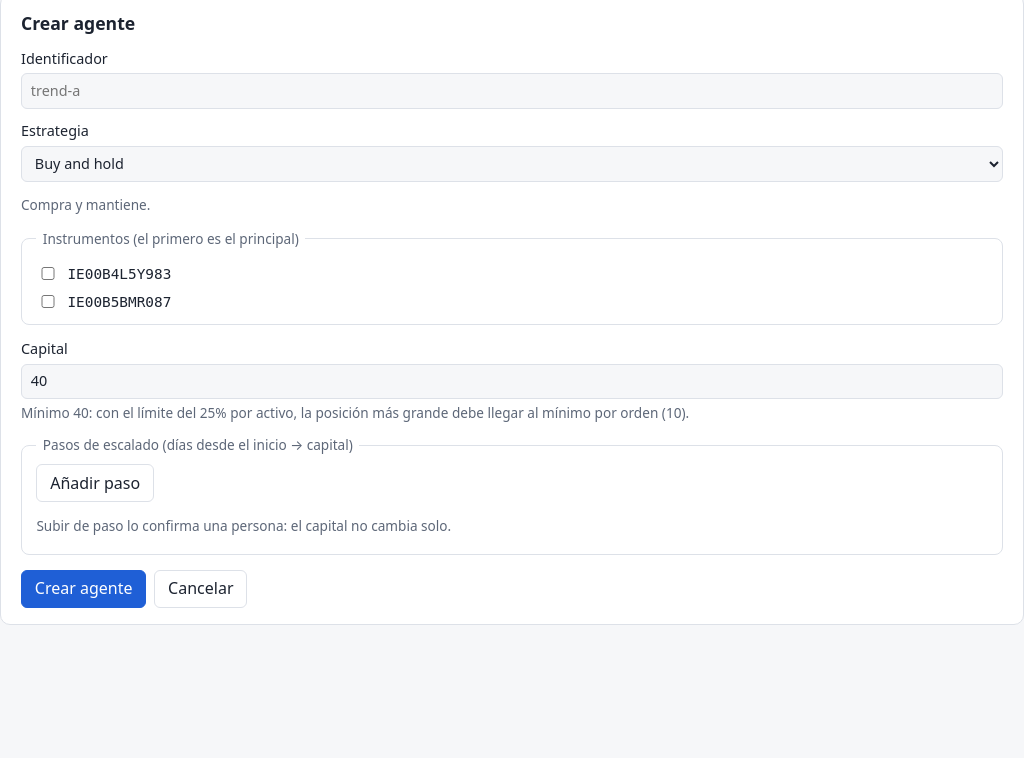
Test: AgentForm (create) › shows every problem and sends nothing when the input is invalid
In the field labelled "Identificador": (512, 91) [21,73,1003,109], type "Bad Id"
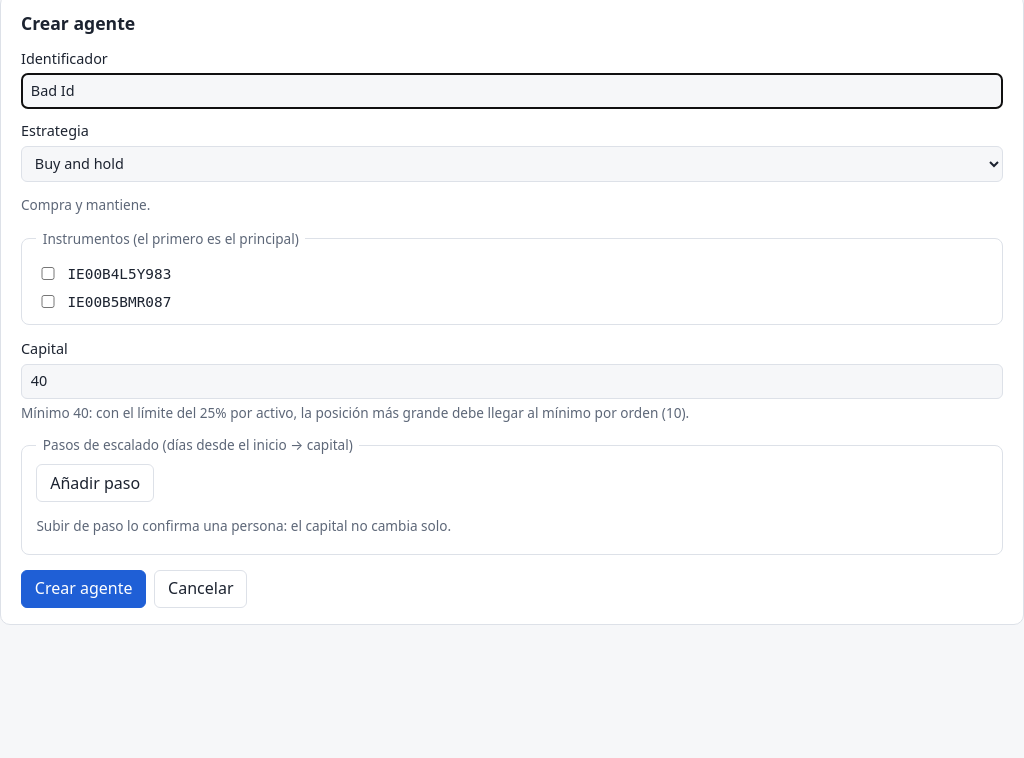
Select "Trend" in the dropdown labelled "Estrategia": (512, 164) [21,146,1003,182]
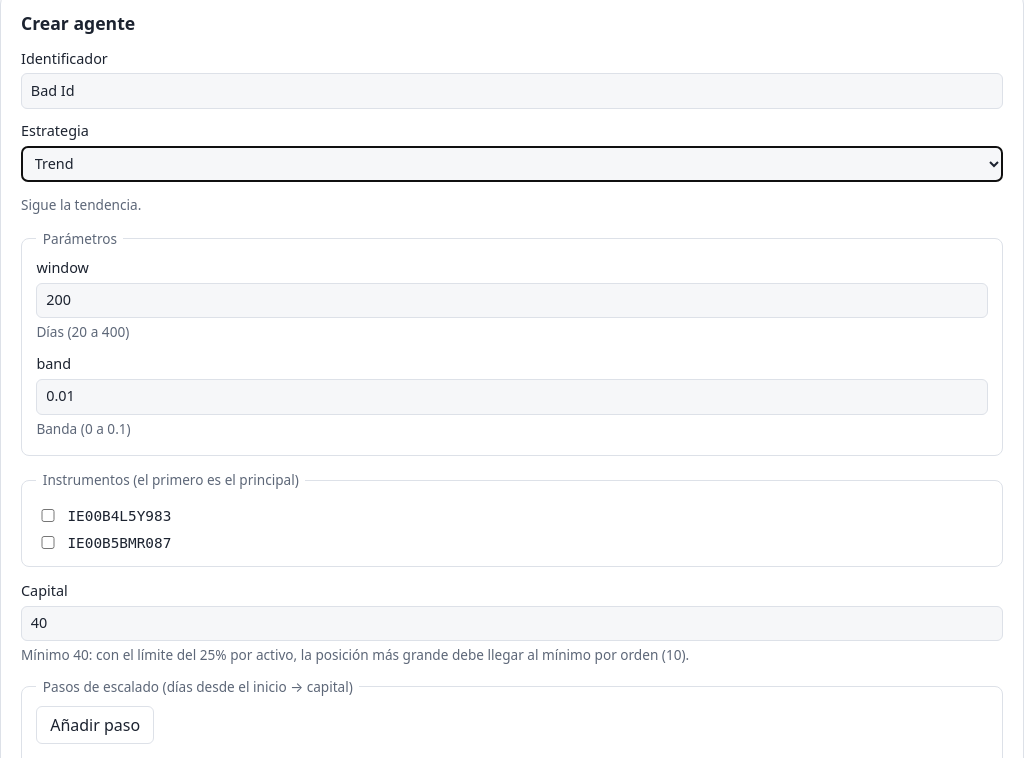
Replace the text in the number field labelled "window Días (20 a 400)" with "5": (512, 300) [36,283,988,318]
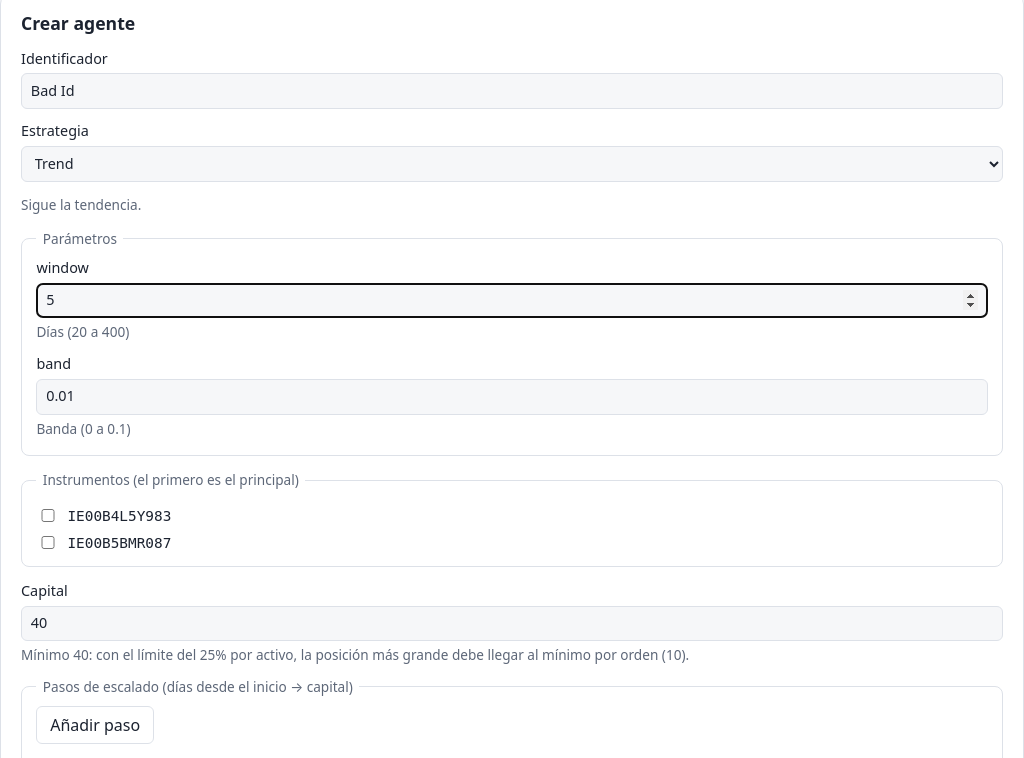
Replace the text in the number field labelled "Capital" with "39": (512, 624) [21,606,1003,641]
(page scrolled)
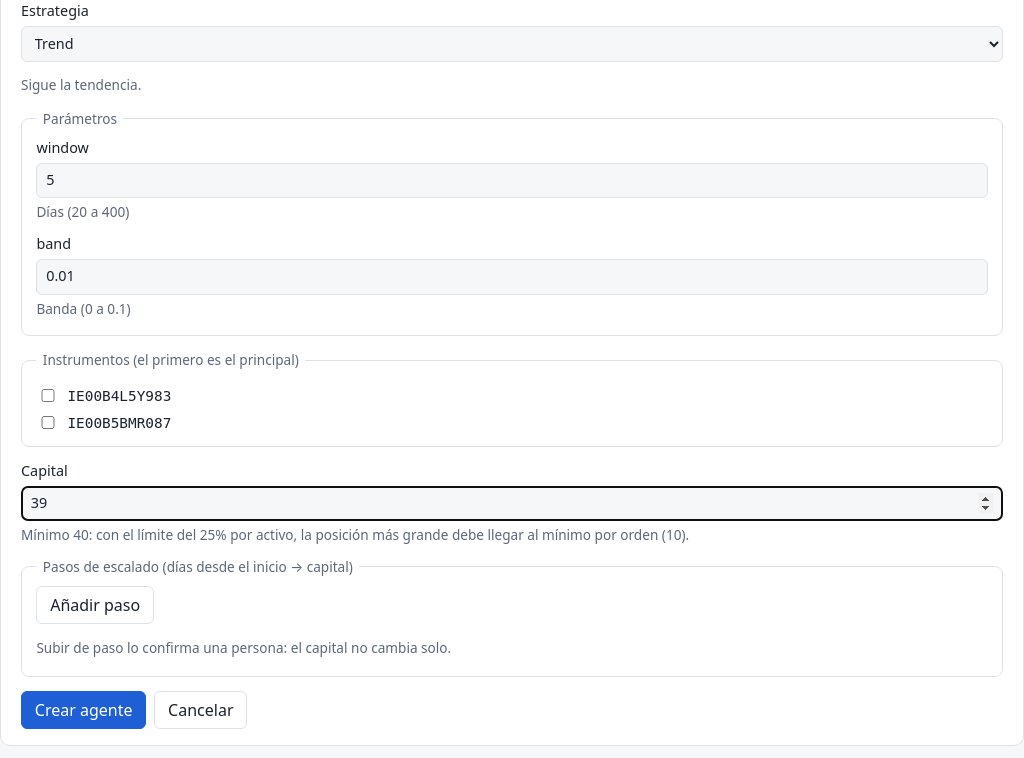
Click the button "Crear agente": click(84, 710) [21,692,146,730]
(page scrolled)
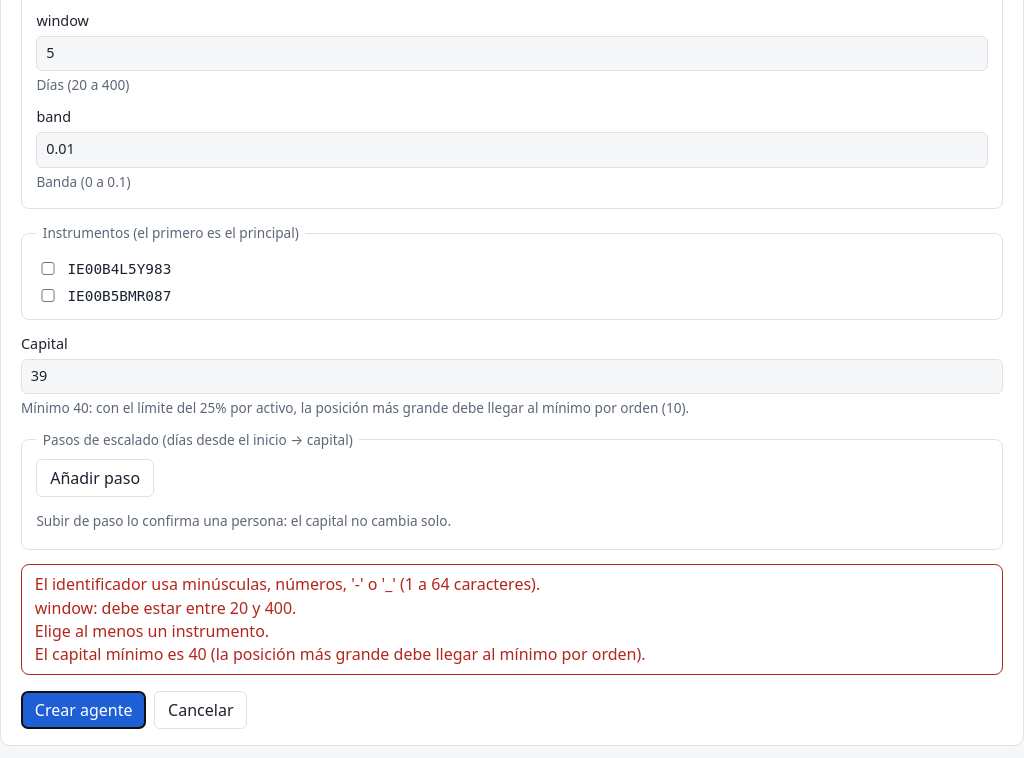
Now the message shows "identificador", box [35,574,540,596]
Now the message shows "window: debe estar entre 20 y 400", box [35,597,296,619]
Now the message shows "al menos un instrumento", box [35,620,269,642]
